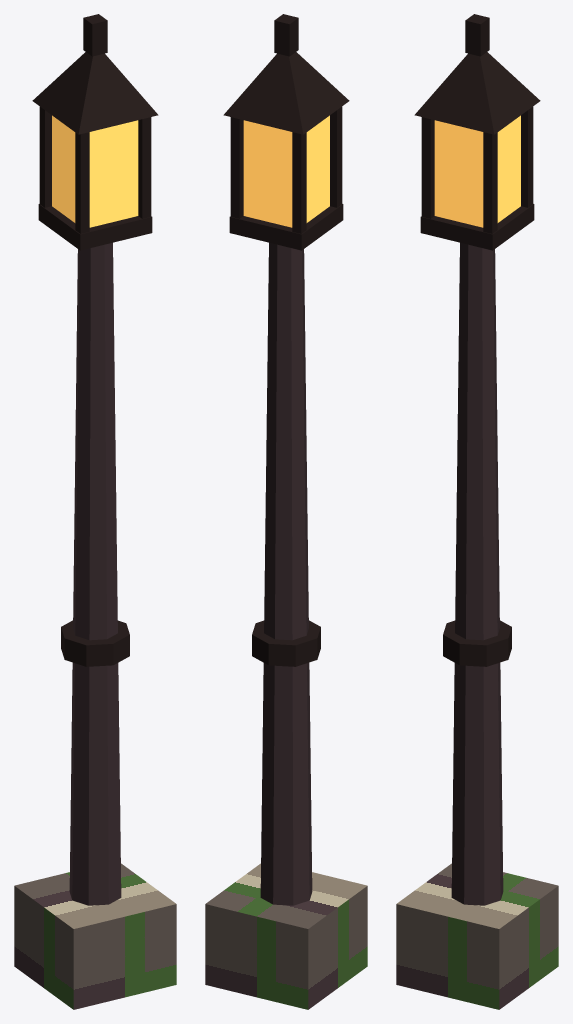
The model's file is lamp_post.glb.
3 renders of one model, left to right at view 1: azimuth 30°, elevation 25°; view 2: azimuth 150°, elevation 25°; view 3: azimuth 330°, elevation 25°, orthographic.
Parts seen in each view (by area): view 1: lamp_post; view 2: lamp_post; view 3: lamp_post.
Part boxes in pixels (x1,y1,x2,y2): lamp_post: [14, 14, 176, 1009]; lamp_post: [205, 14, 367, 1009]; lamp_post: [396, 14, 558, 1009].
Bounding box in the file's own units: 0.4 × 3.55 × 0.4.
Materials: 3 (1 with a texture image).
